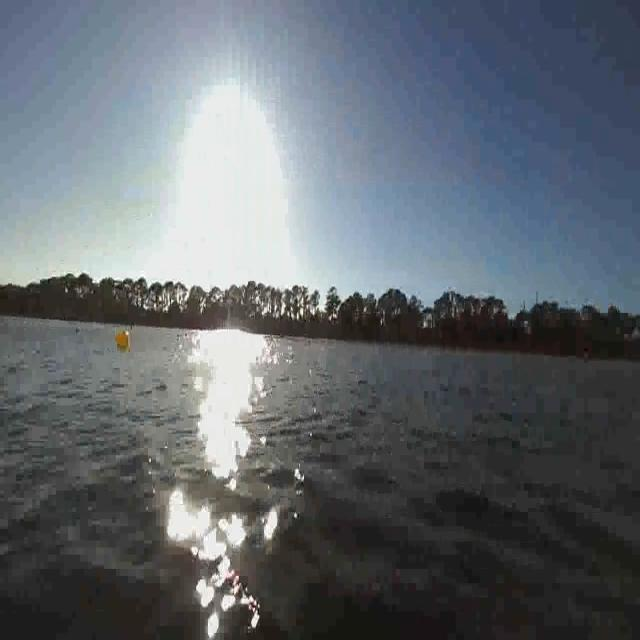yellow-buoy: (117, 330, 131, 349)
